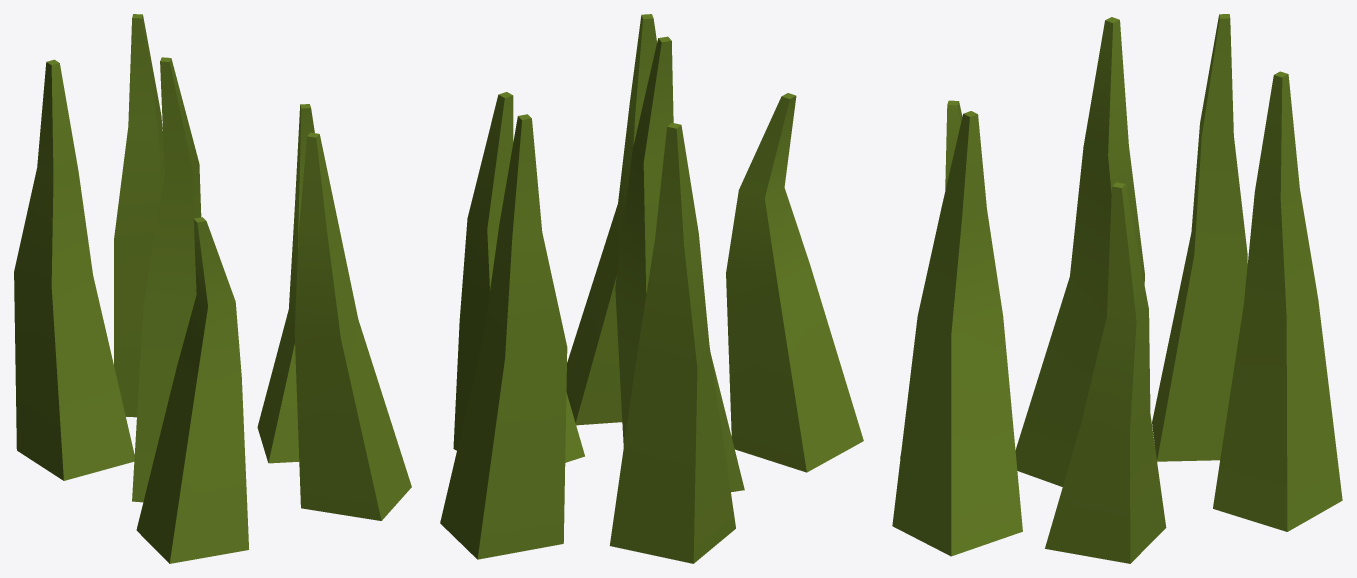
File: Grass_2_low.fbx
3 views of the same model, side by side, from view 1: azimuth 30°, elevation 25°; view 2: azimuth 150°, elevation 25°; view 3: azimuth 270°, elevation 25° (orthographic). The views are drawn at different scales.
Parts seen in each view (by area): view 1: Grass_2_low; view 2: Grass_2_low; view 3: Grass_2_low.
Part boxes in pixels (<box>): Grass_2_low: <box>14,14,411,563</box>; Grass_2_low: <box>440,14,863,563</box>; Grass_2_low: <box>892,14,1342,563</box>.
Bounding box in the file's own units: 0.2516 × 0.3606 × 0.3297.
